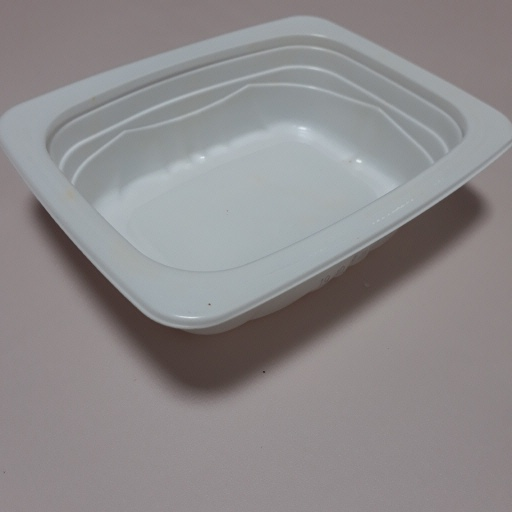Plastic_4: (1, 14, 512, 339)
